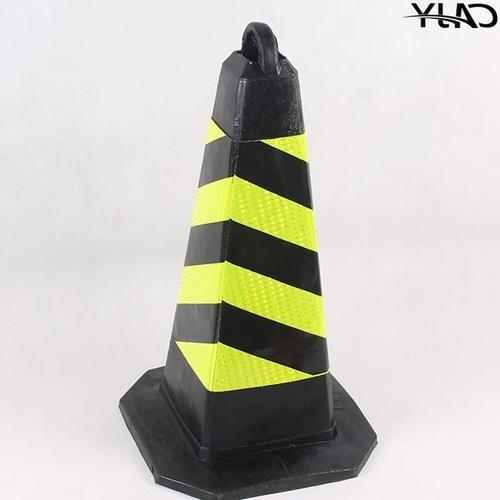cone_barrel: (135, 30, 371, 477)
